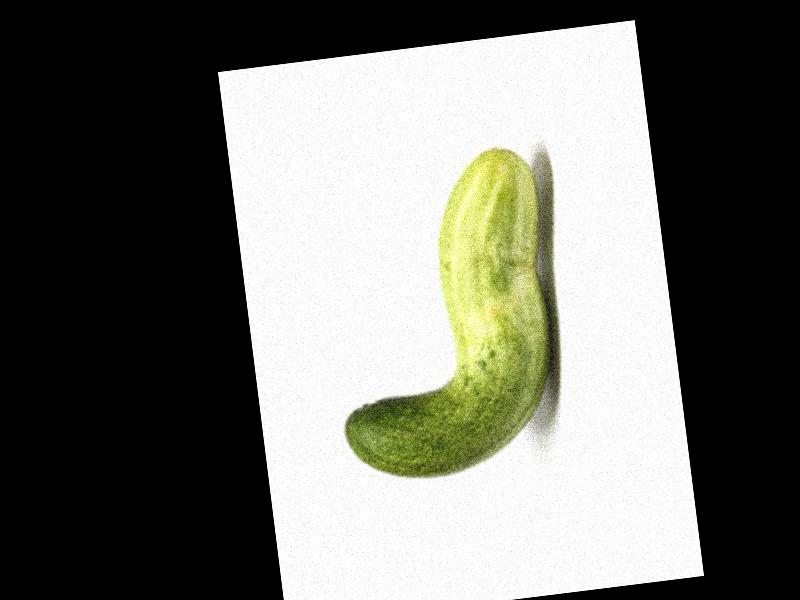Cucumber: (312, 142, 572, 488)
